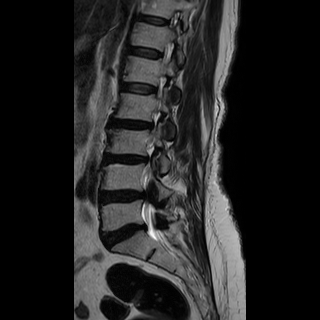RFS0: (146, 69, 174, 103)
